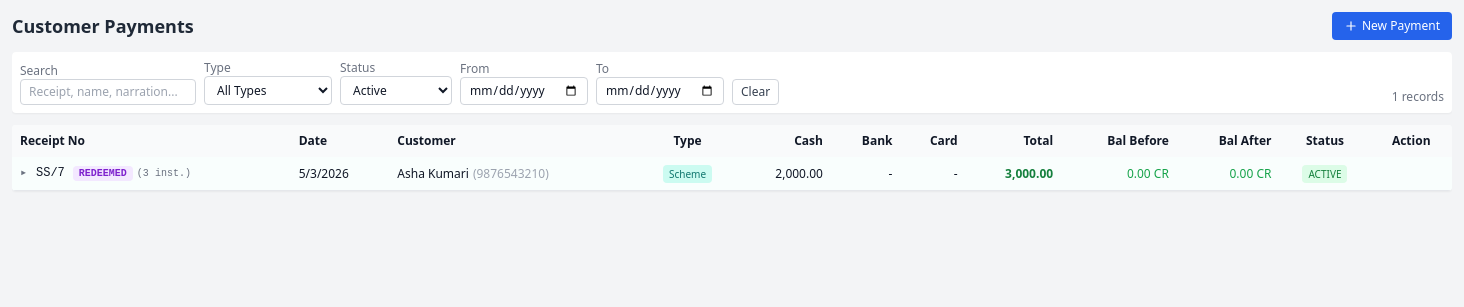
Test: CustomerPaymentList — consolidated scheme rows › expands children when the consolidated row is clicked, and collapses on second click
Click the row with test id "scheme-consolidated-7". click: (732, 174)
box: [12, 157, 1452, 190]
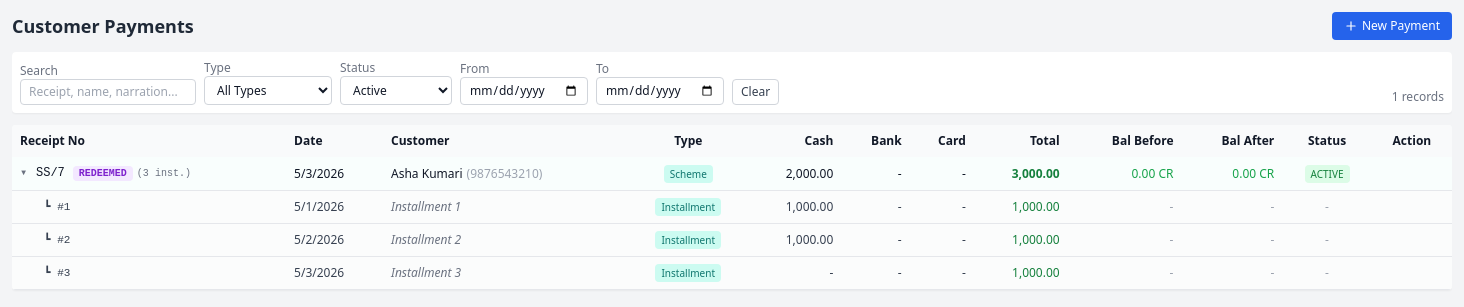
Expected: the row with test id "scheme-child-7-1" is shown, [12, 190, 1452, 224]
Expected: the row with test id "scheme-child-7-2" is shown, [12, 224, 1452, 256]
Expected: the row with test id "scheme-child-7-3" is shown, [12, 256, 1452, 290]
Click the row with test id "scheme-consolidated-7". click: (732, 174)
box: [12, 157, 1452, 190]
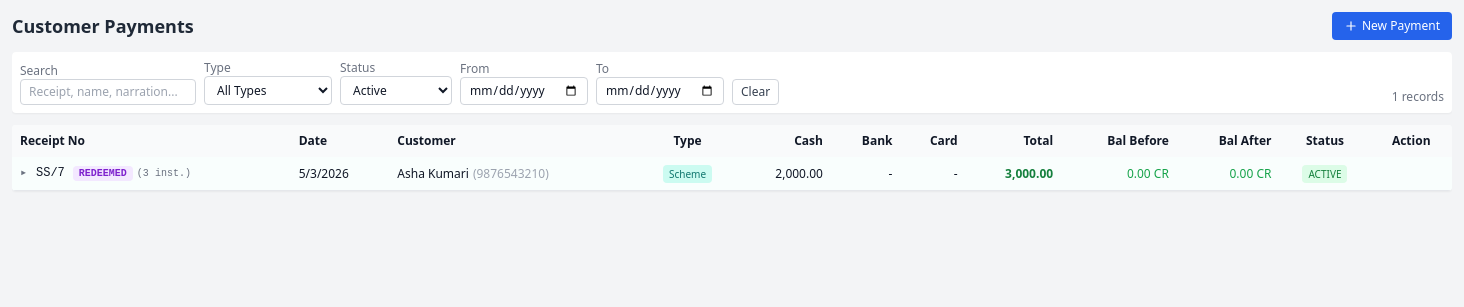
Expected: the row with test id "scheme-child-7-1" is gone
Expected: the row with test id "scheme-child-7-2" is gone
Expected: the row with test id "scheme-child-7-3" is gone
